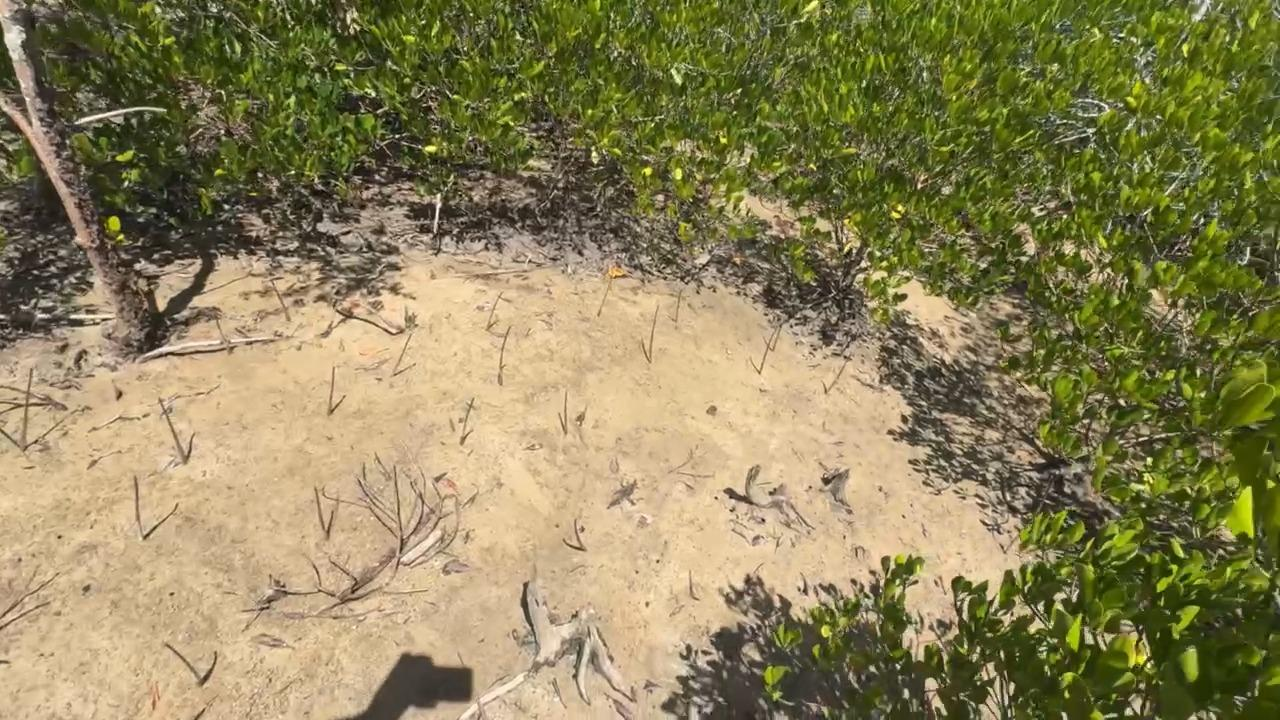Tree: (157, 396, 188, 467), (20, 367, 34, 449), (496, 323, 514, 386), (824, 354, 852, 394), (758, 326, 777, 374), (270, 279, 291, 322), (392, 332, 413, 374), (485, 291, 505, 331), (197, 649, 218, 687), (460, 396, 475, 445), (648, 303, 660, 364), (133, 475, 144, 541), (597, 274, 613, 317), (214, 315, 230, 354), (1003, 530, 1022, 553), (574, 518, 586, 551), (328, 366, 336, 415), (770, 323, 783, 353), (675, 289, 683, 323), (326, 510, 334, 539), (563, 390, 568, 436), (688, 569, 694, 599)
